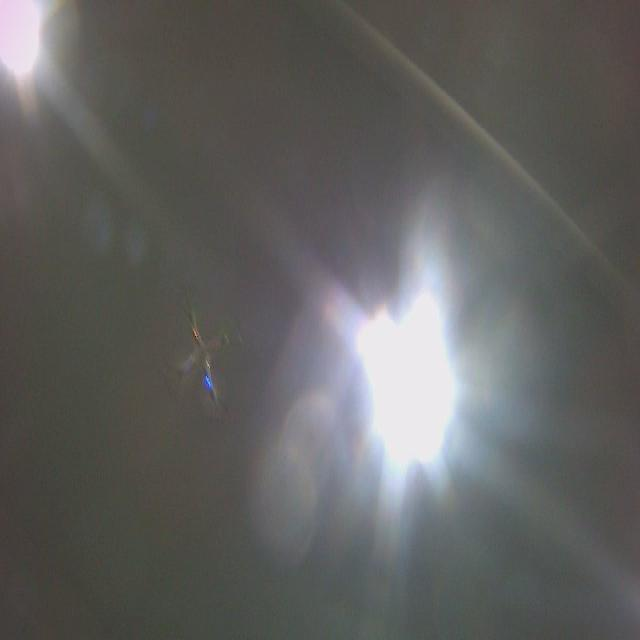drone: (161, 281, 246, 428)
